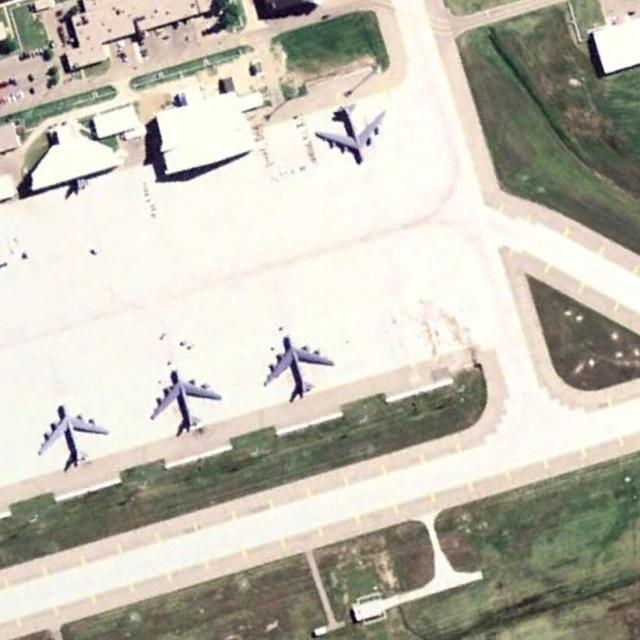fighter jet: (39, 402, 104, 468), (316, 103, 390, 158), (260, 338, 323, 402), (152, 372, 208, 431)
